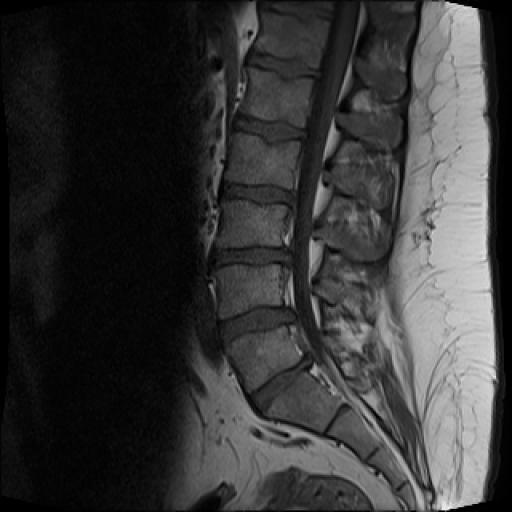L1: (238, 67, 313, 128)
L2: (226, 134, 300, 188)
L3: (218, 201, 291, 246)
L4: (218, 264, 282, 318)
L5: (227, 326, 301, 392)
S1: (264, 371, 342, 432)
